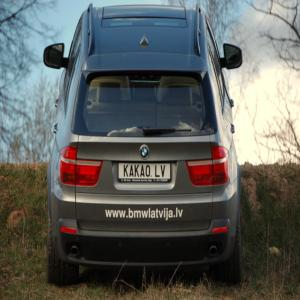Vehicle-registration-plate: (120, 165, 171, 179)
